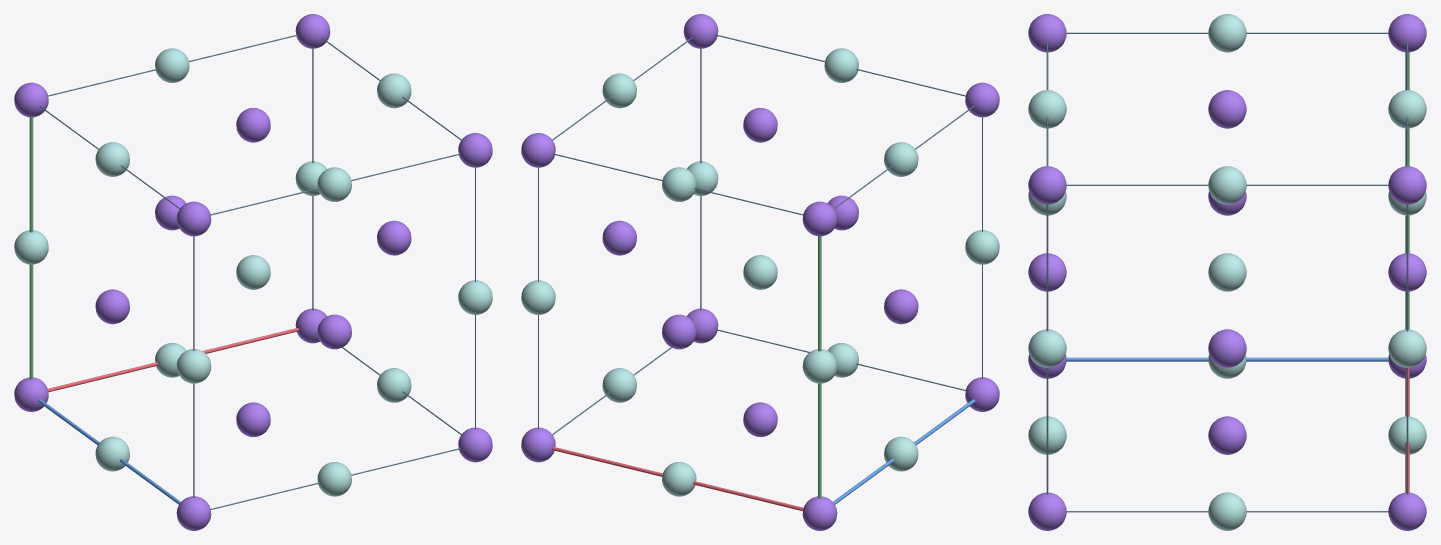
The model's file is chat-sodium-bromide.glb.
3 renders of one model, left to right at view 1: azimuth 30°, elevation 25°; view 2: azimuth 150°, elevation 25°; view 3: azimuth 270°, elevation 25°, orthographic. The views are drawn at different scales.
Visible parts, largest first — view 1: Na · Na · 1 (×14), Br · Br · 1 (×13), Ô mạng và các trục a, b, c; view 2: Na · Na · 1 (×14), Br · Br · 1 (×13), Ô mạng và các trục a, b, c; view 3: Na · Na · 1 (×11), Br · Br · 1 (×10), Ô mạng và các trục a, b, c.
Boxes of the visible parts, x1=… form: Na · Na · 1 (×14): x1=14, y1=14, x2=492, y2=530; Br · Br · 1 (×13): x1=14, y1=48, x2=492, y2=496; Ô mạng và các trục a, b, c: x1=29, y1=34, x2=475, y2=509; Na · Na · 1 (×14): x1=521, y1=14, x2=999, y2=530; Br · Br · 1 (×13): x1=521, y1=48, x2=999, y2=496; Ô mạng và các trục a, b, c: x1=538, y1=34, x2=982, y2=511; Na · Na · 1 (×11): x1=1028, y1=14, x2=1426, y2=530; Br · Br · 1 (×10): x1=1028, y1=14, x2=1426, y2=530; Ô mạng và các trục a, b, c: x1=1046, y1=32, x2=1409, y2=512.
Size of the model in its own units: 6.61 by 6.61 by 6.61.
